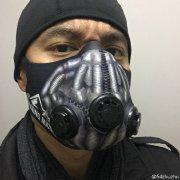OK: (19, 25, 138, 144)
